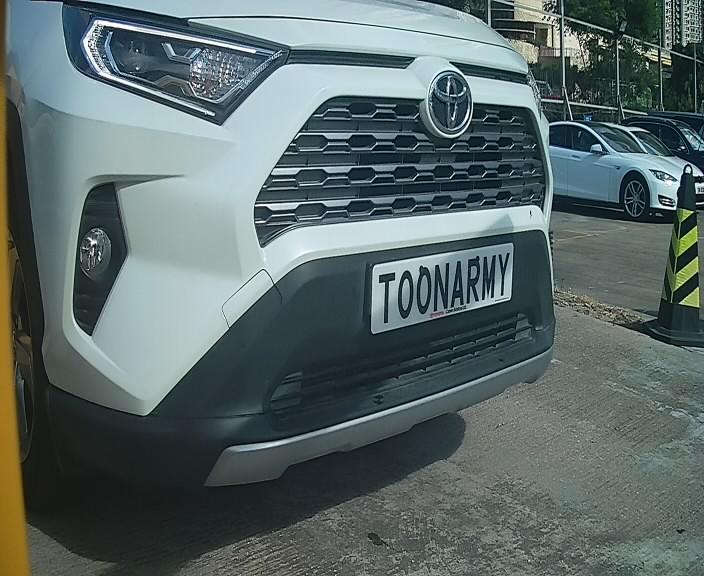Car: (26, 1, 595, 512)
License Plate: (365, 229, 522, 337)
